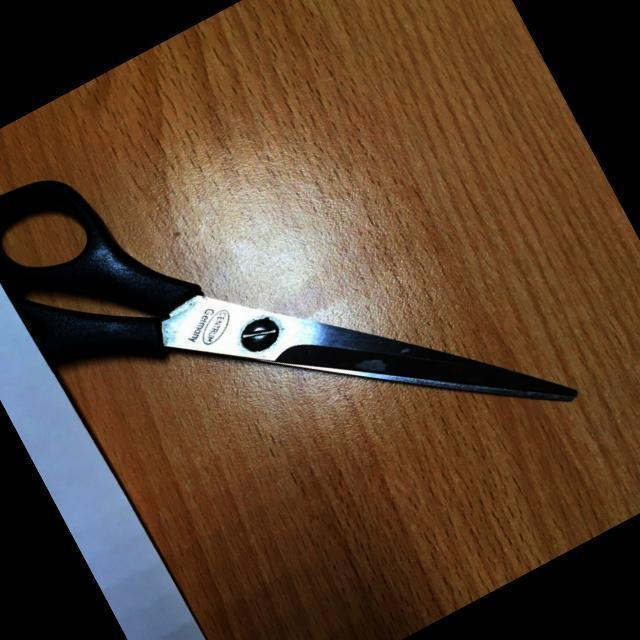scissors: (0, 0, 583, 613)
